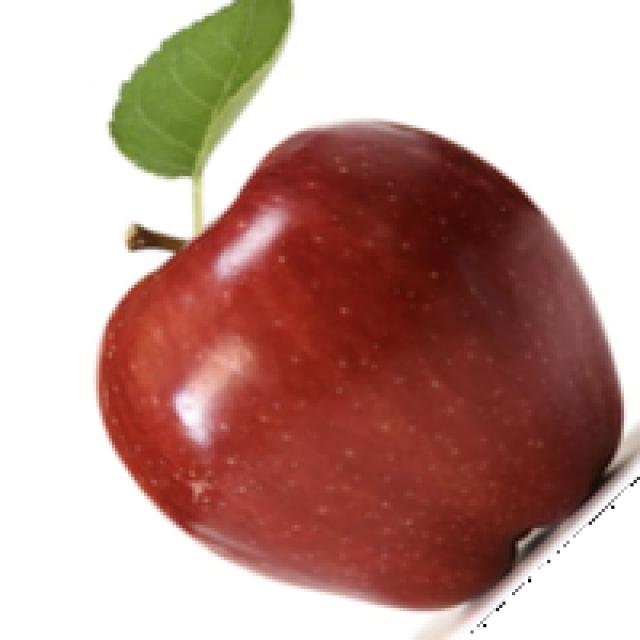apple: (90, 115, 637, 637)
